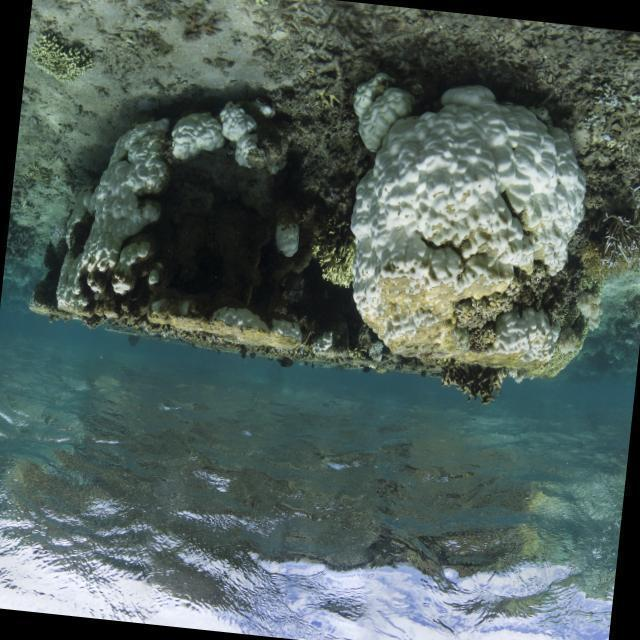Bleached Coral: (323, 39, 595, 320), (47, 103, 161, 307), (160, 89, 263, 167)
Dead Coral: (260, 0, 347, 95)
